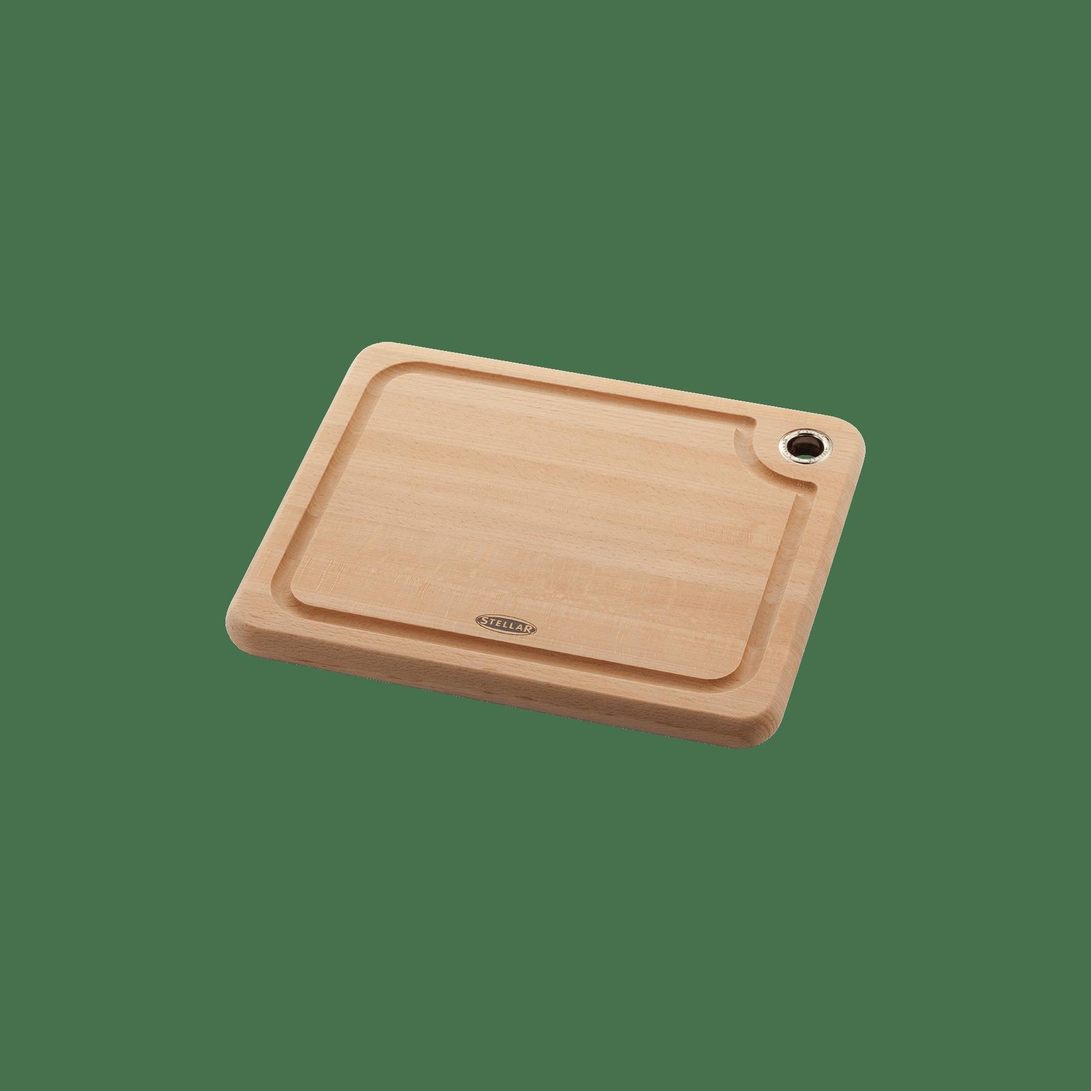gloved_hand: (201, 331, 871, 763)
